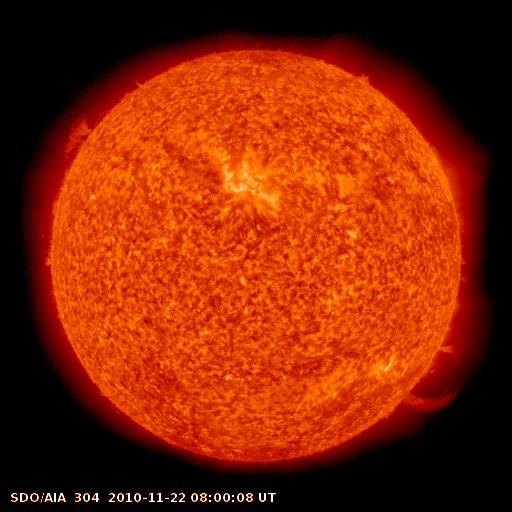prominence: (390, 328, 480, 419), (59, 100, 109, 173), (33, 187, 64, 275), (450, 238, 488, 293), (346, 57, 386, 99)
